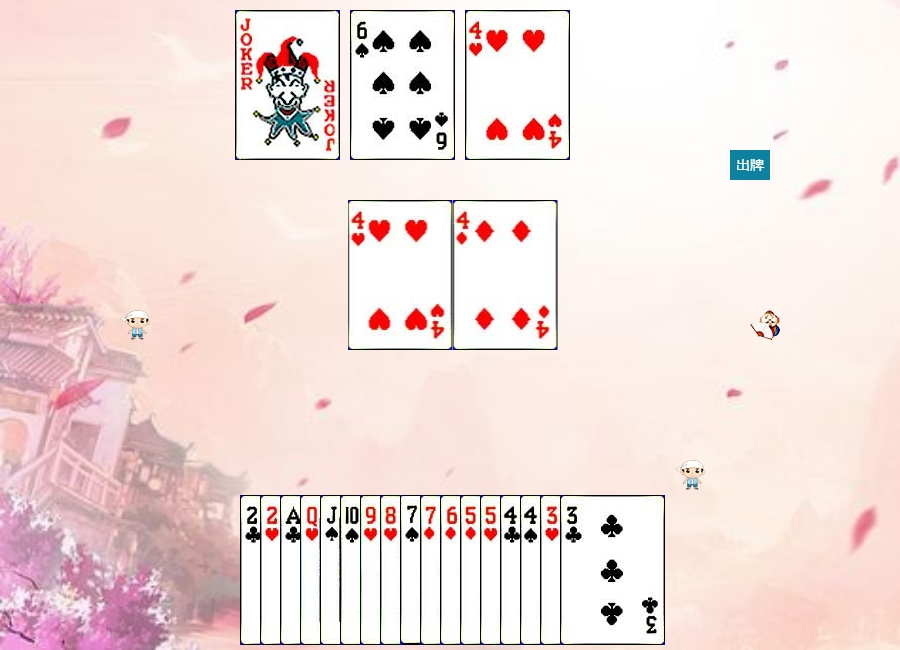10~4: (340, 495, 445, 645)
11~4: (320, 495, 425, 645)
12~3: (300, 495, 405, 645)
14~2: (280, 495, 385, 645)
15~2: (240, 495, 345, 645)
15~3: (260, 495, 365, 645)
18~4: (235, 10, 340, 160)
3~2: (560, 495, 665, 645)
3~3: (540, 495, 645, 645)
4~1: (453, 200, 558, 350)
4~2: (500, 495, 605, 645)
4~3: (465, 10, 570, 160), (348, 200, 453, 350)
4~4: (520, 495, 625, 645)
5~1: (460, 495, 565, 645)
5~3: (480, 495, 585, 645)
6~1: (440, 495, 545, 645)
6~4: (350, 10, 455, 160)
7~1: (420, 495, 525, 645)
7~4: (400, 495, 505, 645)
8~3: (380, 495, 485, 645)
9~3: (360, 495, 465, 645)
